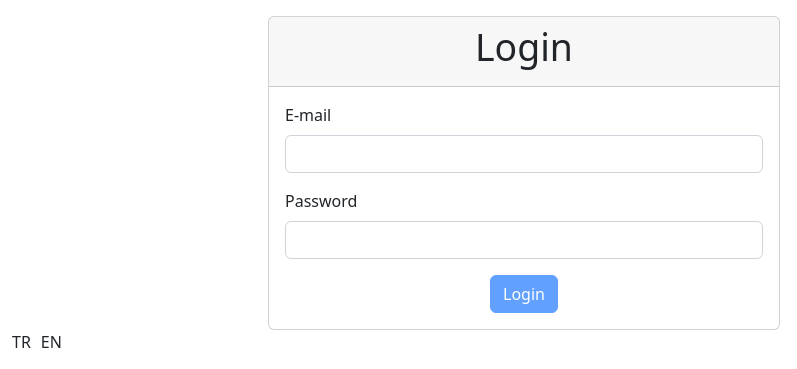
Login Page › Internationalization › displays all text in Turkish after changing language
Click the text titled "Türkçe".
click(21, 342)  # box [12, 331, 31, 353]
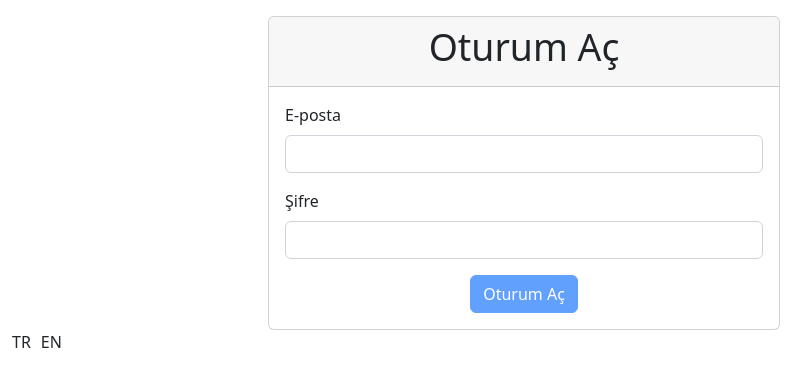
Check: the field labelled "E-posta" is shown, box [285, 135, 763, 173]
Check: the heading "Oturum Aç" is shown, box [429, 21, 619, 72]
Check: the button "Oturum Aç" is shown, box [470, 275, 578, 313]
